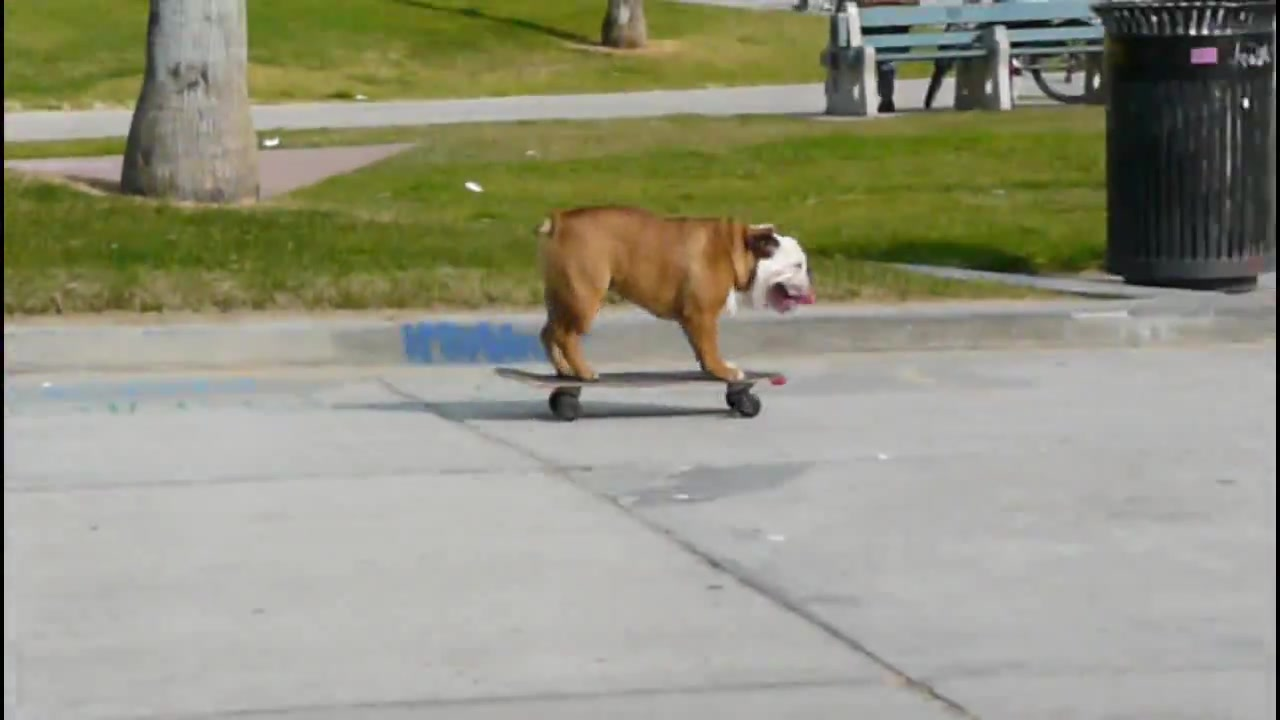dog: (533, 204, 818, 383)
